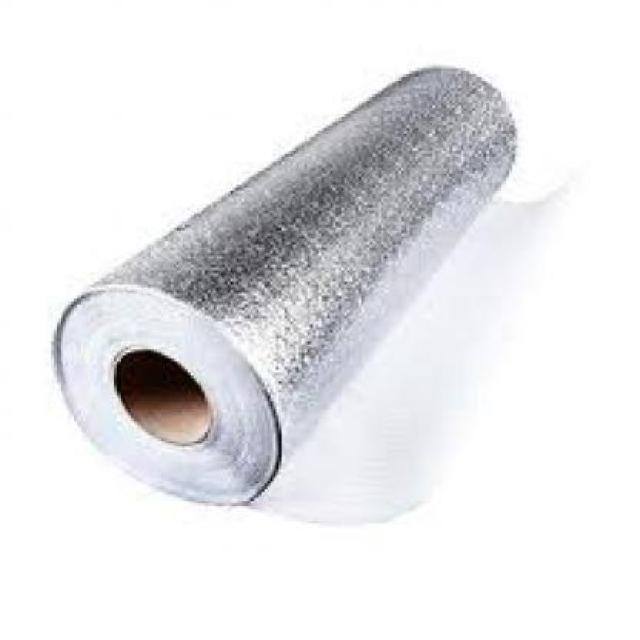METAL: (48, 65, 514, 507)
